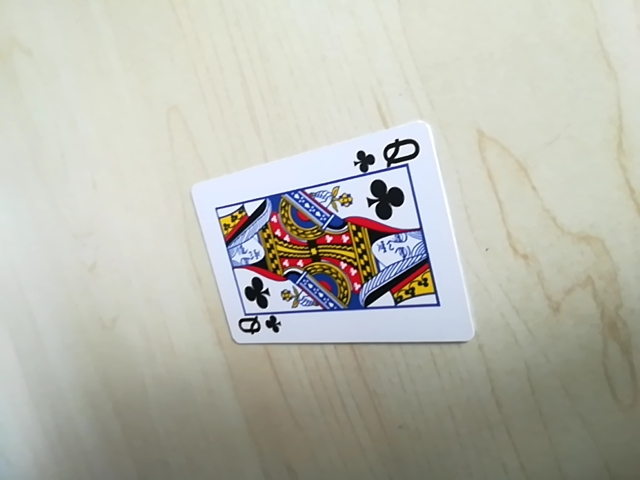mh q: (352, 136, 426, 173), (230, 308, 284, 343)
